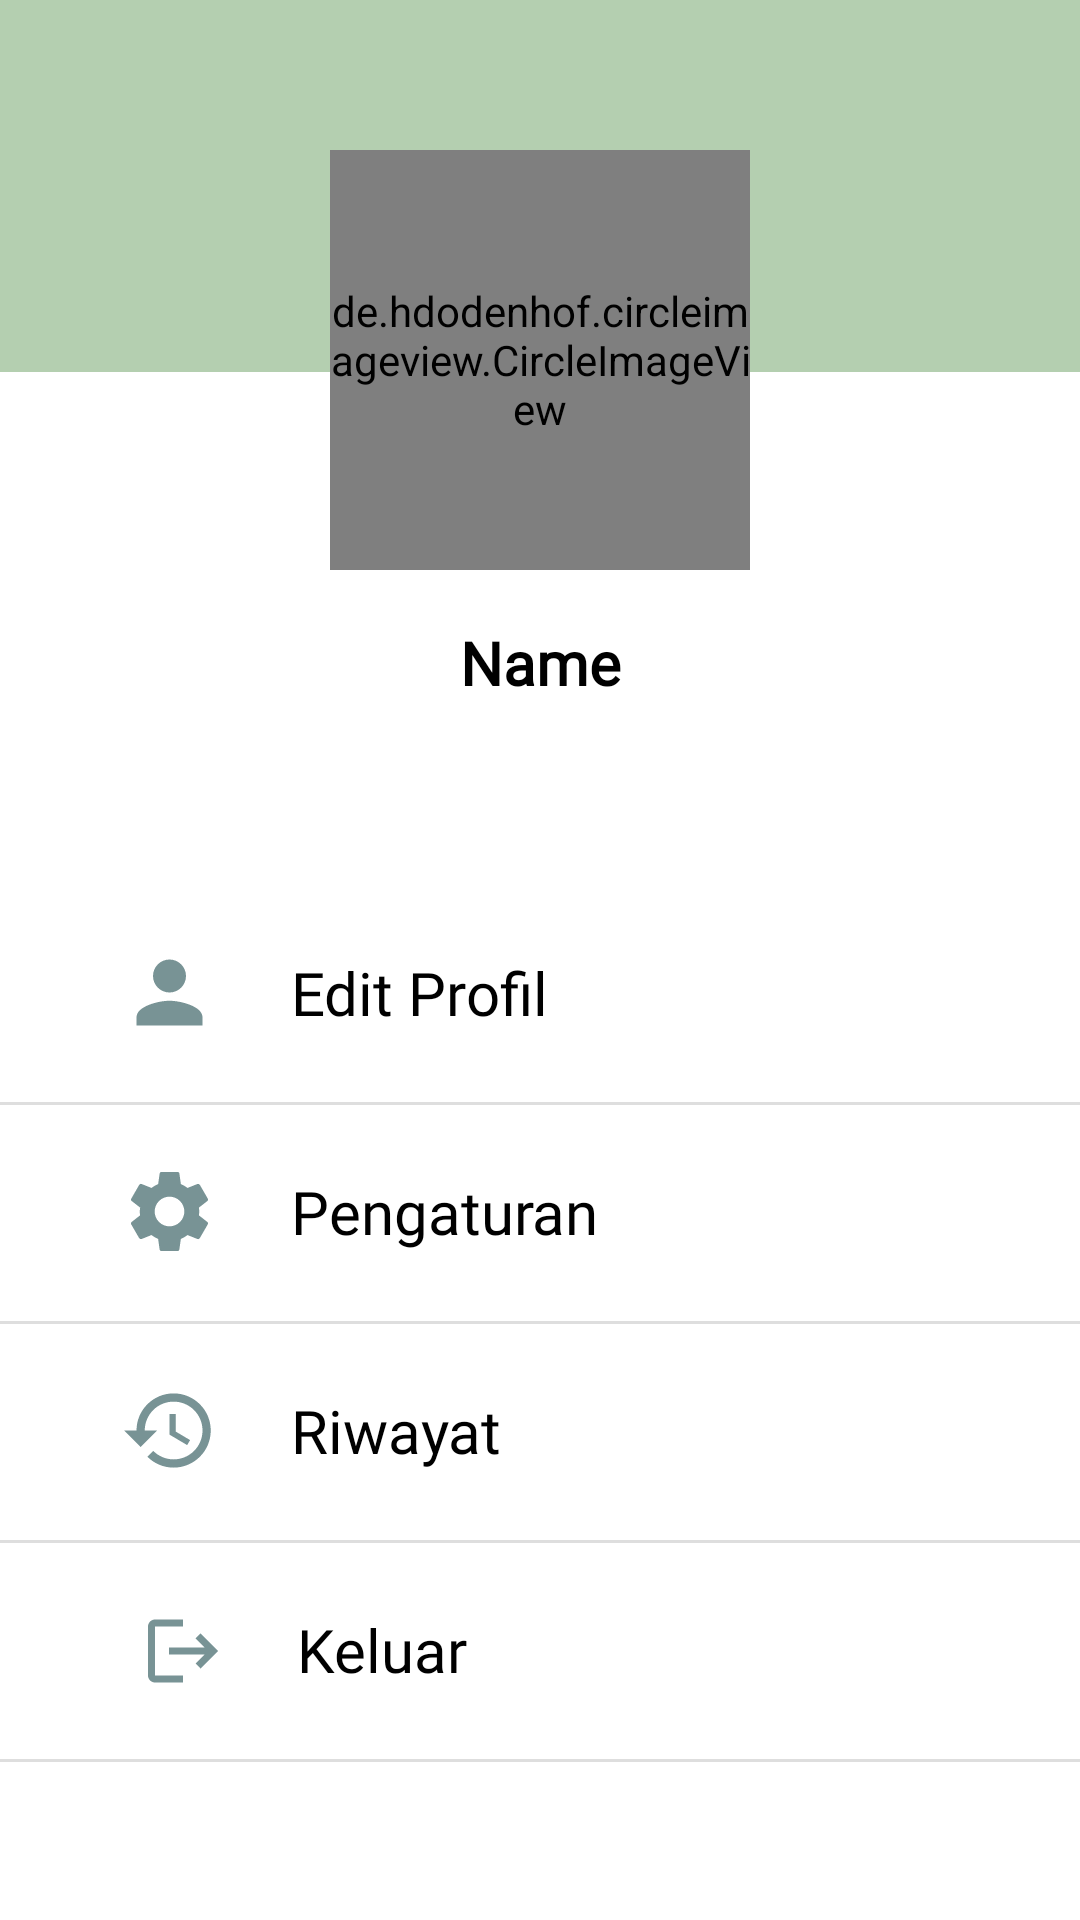

Screen size 1080px×1920px. Icon name, then its box in pixels as (x1, y1, x2, y2):
history: (124, 1393, 211, 1468)
person: (136, 959, 203, 1026)
settings: (131, 1172, 208, 1251)
